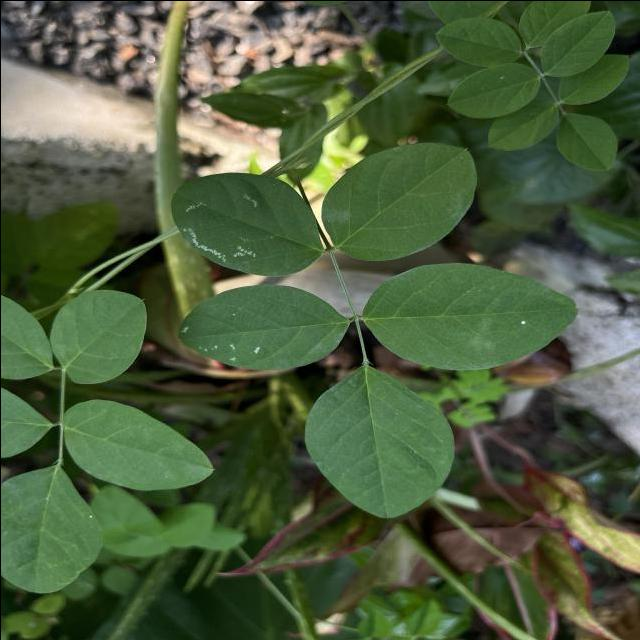Clitoria ternatea: (301, 364, 456, 520), (359, 261, 578, 371), (320, 140, 480, 262), (168, 170, 324, 276), (176, 282, 350, 370)
